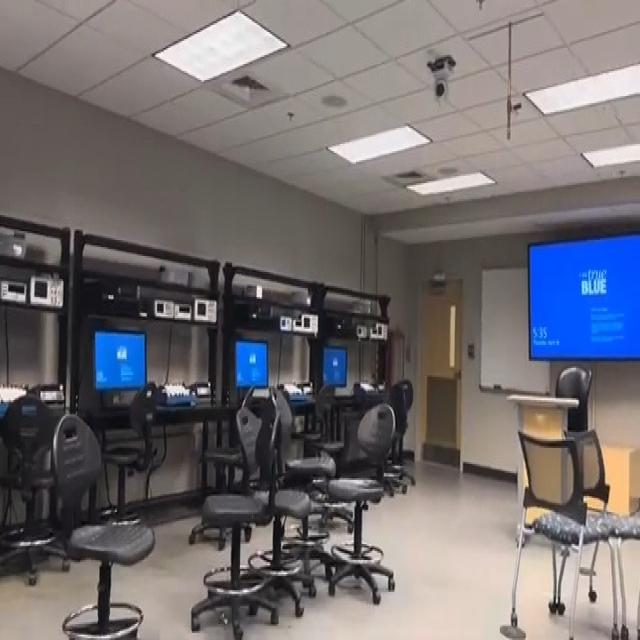drone: (209, 604, 236, 638)
